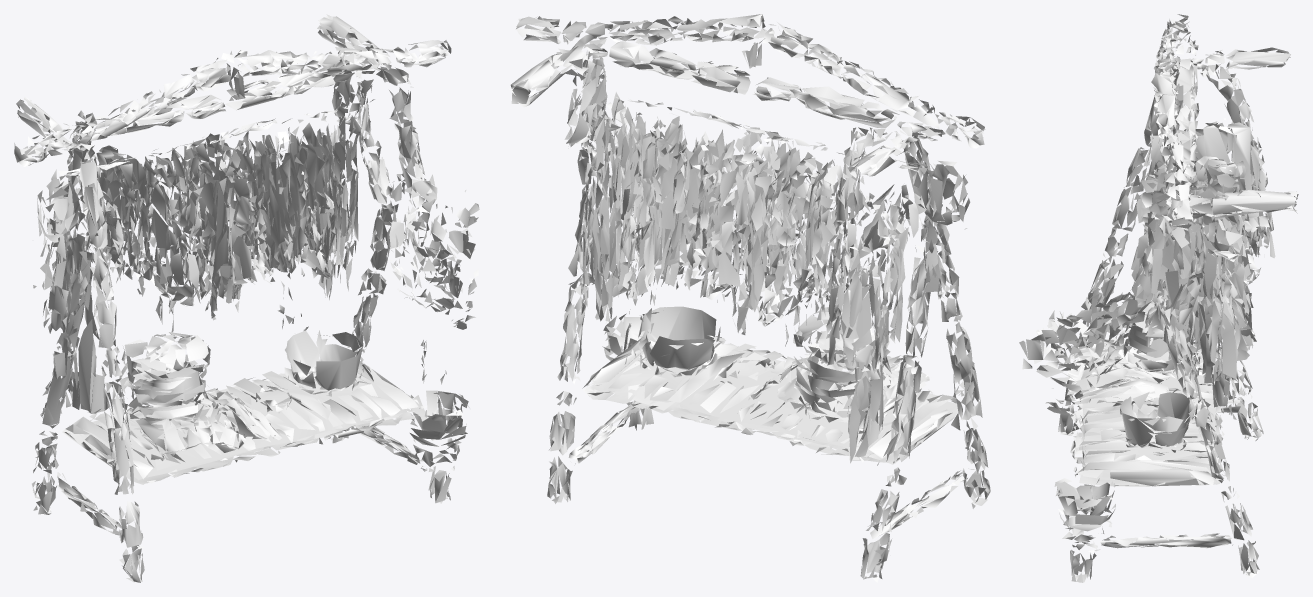
The model's file is beach-souvenir-stall.glb.
3 renders of one model, left to right at view 1: azimuth 30°, elevation 25°; view 2: azimuth 150°, elevation 25°; view 3: azimuth 270°, elevation 25°, orthographic. The views are drawn at different scales.
Parts seen in each view (by area): view 1: model; view 2: model; view 3: model.
Boxes of the visible parts, box(x1,y1,x2,y2) form: model: box(14, 14, 479, 582); model: box(508, 14, 990, 582); model: box(1019, 14, 1298, 582).
Bounding box in the file's own units: 1.88 × 1.9 × 1.09.
Materials: 1 (1 with a texture image).
